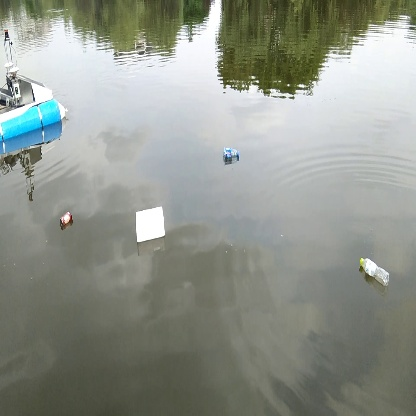bottle: (355, 253, 392, 293), (220, 144, 242, 166)
plastic-garbage: (132, 204, 168, 244)
